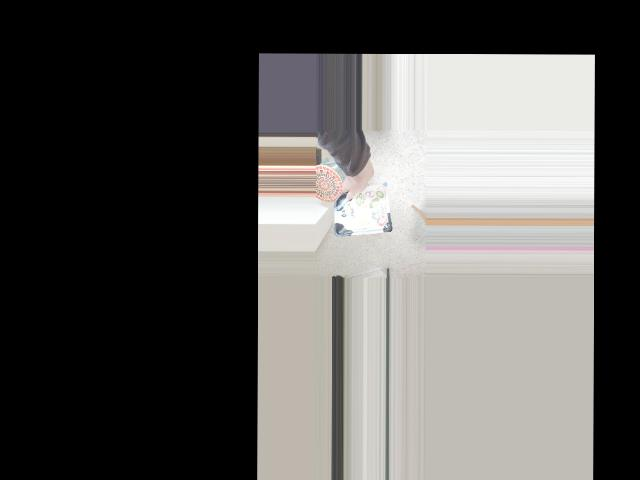cheese: (334, 165, 392, 224)
